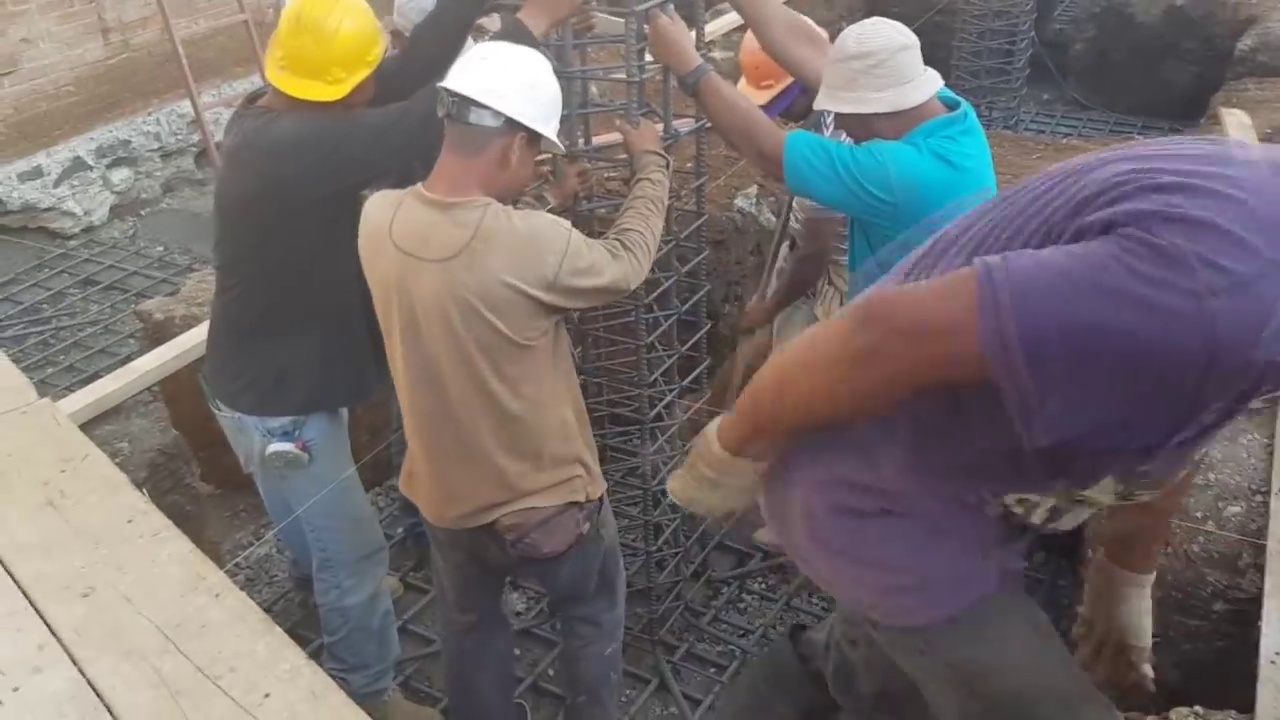helmet: (435, 40, 567, 149), (249, 1, 383, 104), (739, 10, 814, 107)
helmet-off: (815, 14, 963, 146)
helmet-on: (410, 34, 565, 209), (240, 3, 386, 125), (727, 18, 832, 143)
person: (670, 132, 1279, 716), (357, 22, 675, 718), (198, 0, 444, 720), (654, 14, 1000, 304), (717, 11, 858, 351)
